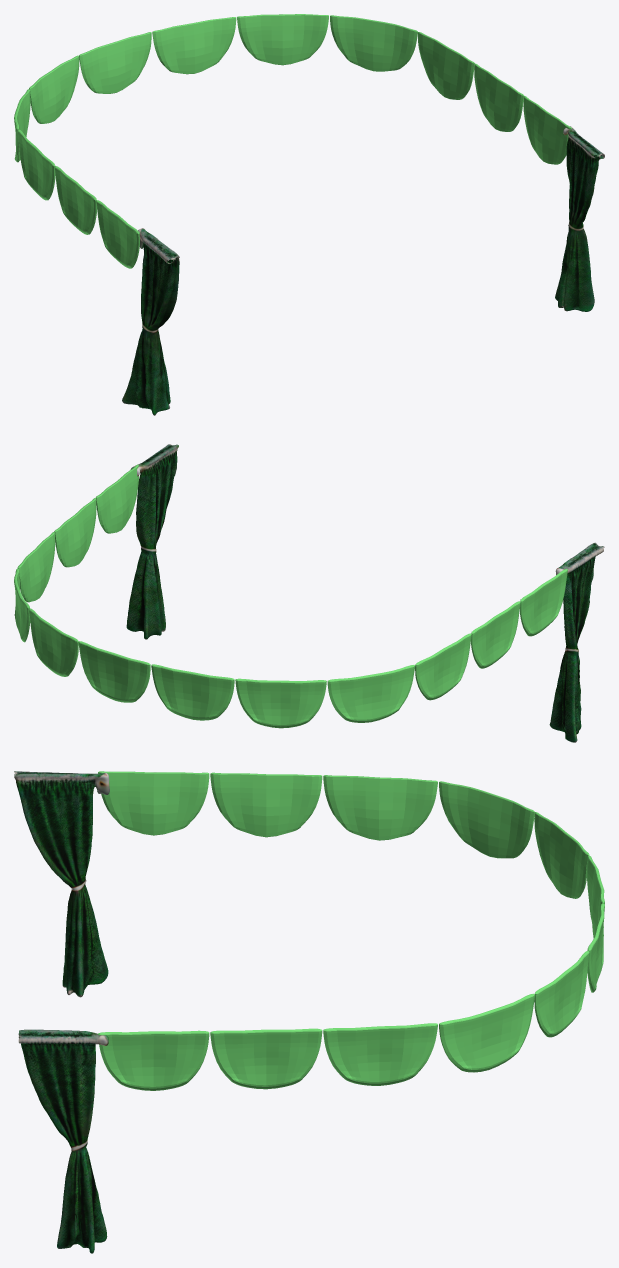
File: Cortinas.fbx
3 views of the same model, one above another, from view 1: azimuth 30°, elevation 25°; view 2: azimuth 150°, elevation 25°; view 3: azimuth 270°, elevation 25° (orthographic). The views are drawn at different scales.
Visible parts, largest first — view 1: Plane, mesh.005, mesh.006; view 2: Plane, mesh.006, mesh.005; view 3: Plane, mesh.005, mesh.006.
Boxes of the visible parts, x1,y1,x2,y2 form: Plane: (14,14,571,268); mesh.005: (122,228,179,415); mesh.006: (555,126,604,311); Plane: (14,464,567,728); mesh.006: (126,444,178,639); mesh.005: (549,542,604,742); Plane: (98,771,604,1090); mesh.005: (14,771,109,997); mesh.006: (18,1029,108,1253).
Size of the model in its own units: 5300 by 1921 by 4756.
2 materials, 1 textured.
